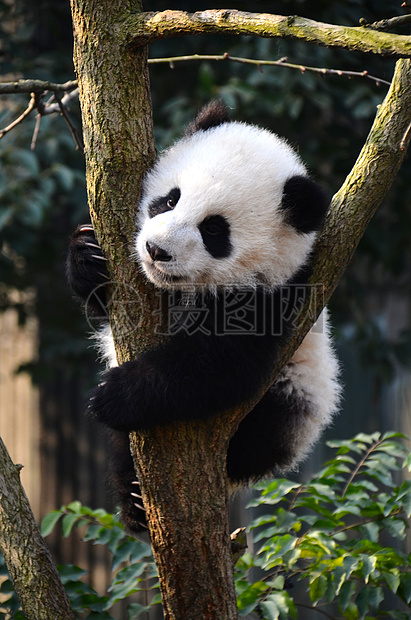panda: (80, 117, 353, 468)
